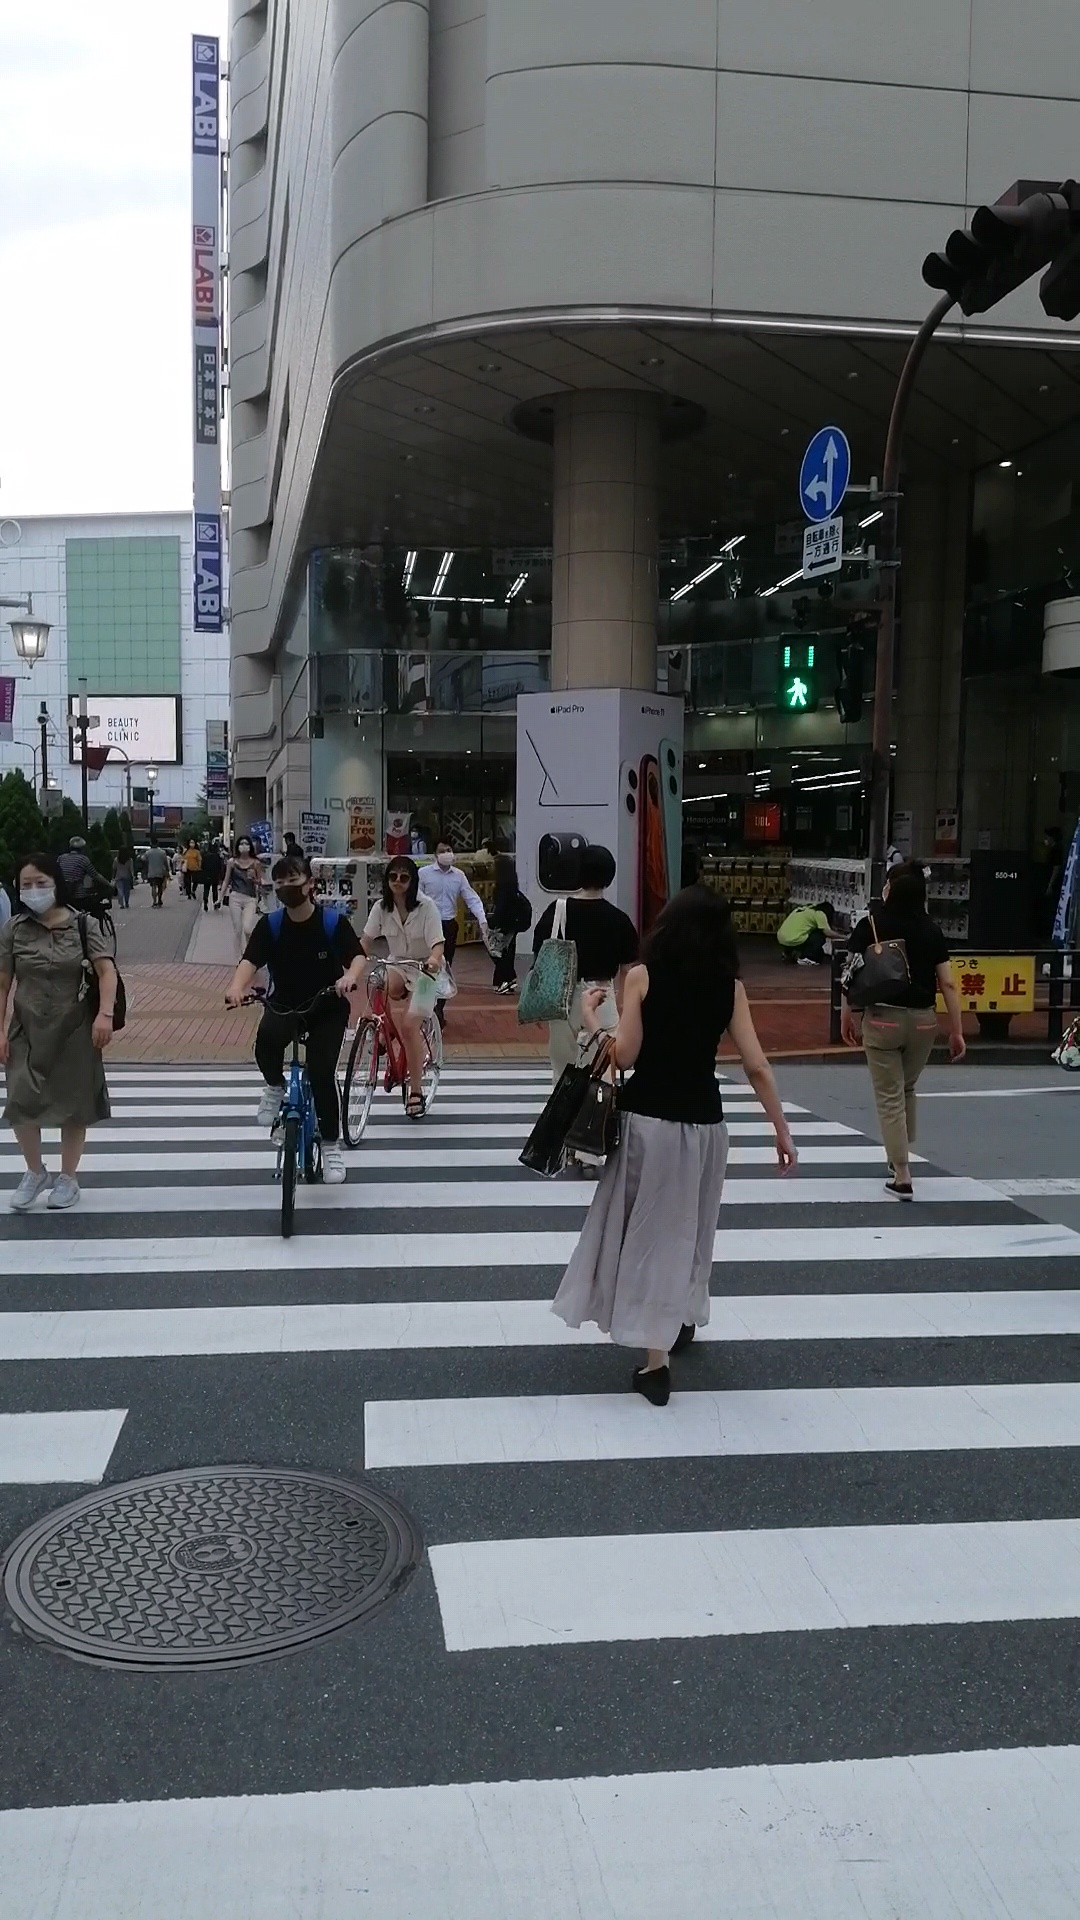green: (778, 632, 819, 712)
